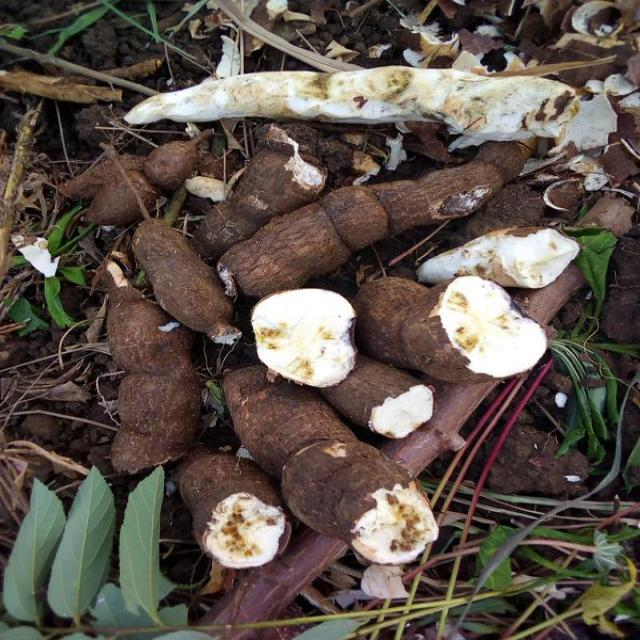cassava leaf: (122, 64, 580, 147), (434, 273, 548, 379), (250, 286, 358, 388), (46, 464, 116, 620)
